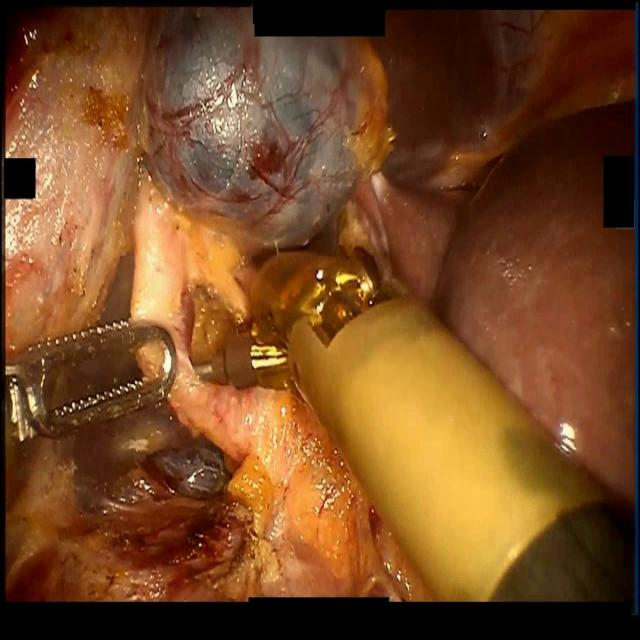surgical-area: (0, 0, 636, 603)
surgical-tool: (194, 246, 634, 612), (4, 314, 180, 436)
